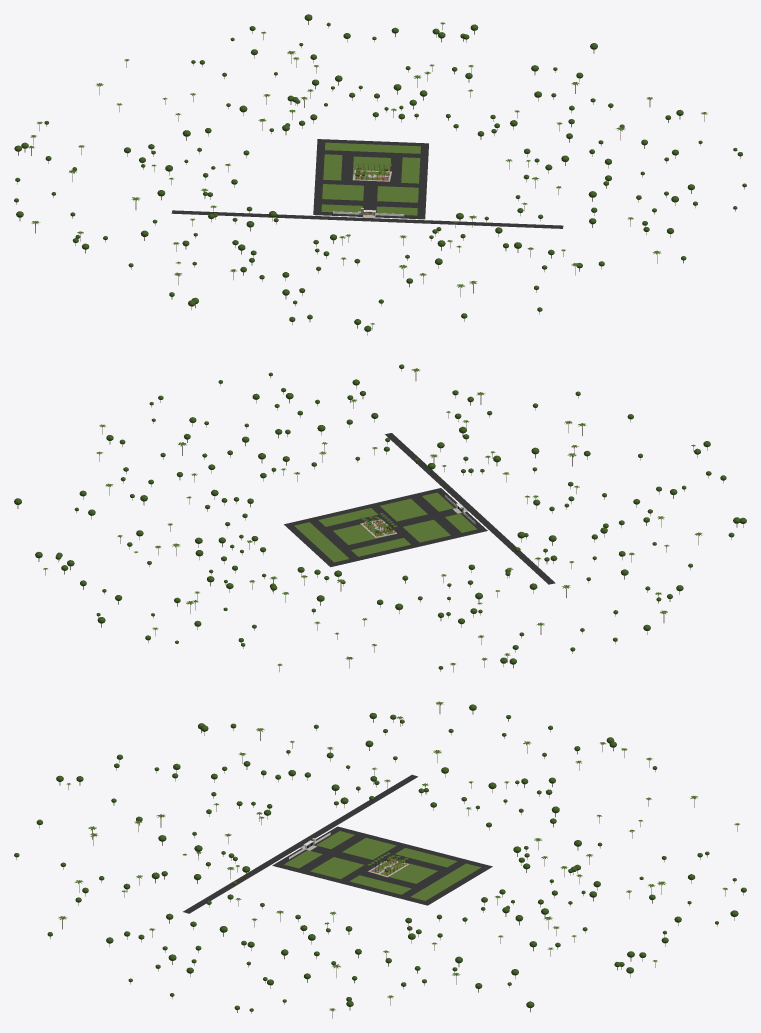
File: sitio.glb
3 renders of one model, top to bottom at view 1: azimuth 30°, elevation 25°; view 2: azimuth 150°, elevation 25°; view 3: azimuth 270°, elevation 25°, orthographic.
Parts seen in each view (by area): view 1: sitio; view 2: sitio; view 3: sitio.
Boxes of the visible parts, x1=… form: sitio: x1=14, y1=14, x2=746, y2=335; sitio: x1=14, y1=364, x2=746, y2=672; sitio: x1=14, y1=701, x2=746, y2=1018.
Size of the model in its own units: 806 by 15.17 by 811.
